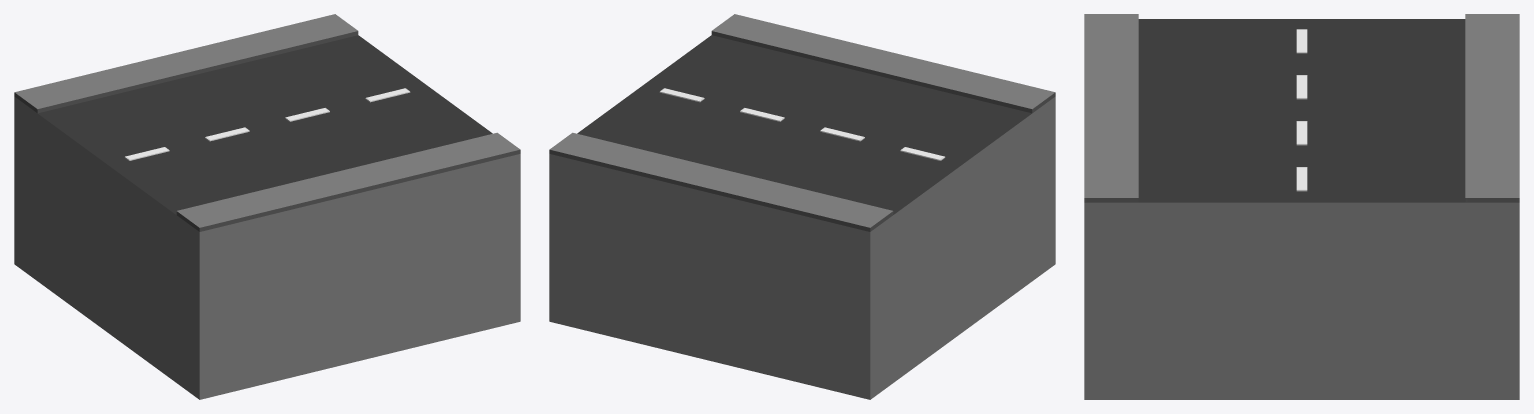
File: StraightStreet.glb
The picture shows the model from 3 angles, left to right: view 1: azimuth 30°, elevation 25°; view 2: azimuth 150°, elevation 25°; view 3: azimuth 270°, elevation 25°; orthographic projection. The views are drawn at different scales.
Visible parts, largest first — view 1: Cube, Cube.004, Cube.001, Cube.002, Cube.003; view 2: Cube, Cube.004, Cube.002, Cube.001, Cube.003; view 3: Cube, Cube.004, Cube.001, Cube.002, Cube.003.
Part boxes in pixels (left/top/right/bottom): Cube: left=14, top=96, right=520, bottom=399; Cube.004: left=38, top=35, right=492, bottom=214; Cube.001: left=176, top=132, right=520, bottom=231; Cube.002: left=14, top=14, right=358, bottom=113; Cube.003: left=124, top=88, right=410, bottom=160; Cube: left=549, top=96, right=1055, bottom=399; Cube.004: left=577, top=35, right=1031, bottom=214; Cube.002: left=549, top=132, right=893, bottom=231; Cube.001: left=711, top=14, right=1055, bottom=113; Cube.003: left=659, top=88, right=945, bottom=160; Cube: left=1084, top=202, right=1519, bottom=399; Cube.004: left=1138, top=19, right=1465, bottom=202; Cube.001: left=1084, top=14, right=1138, bottom=202; Cube.002: left=1465, top=14, right=1519, bottom=202; Cube.003: left=1296, top=29, right=1307, bottom=191.
Size of the model in its own units: 16 by 8.2 by 16.
Materials: 2 (2 with a texture image).
